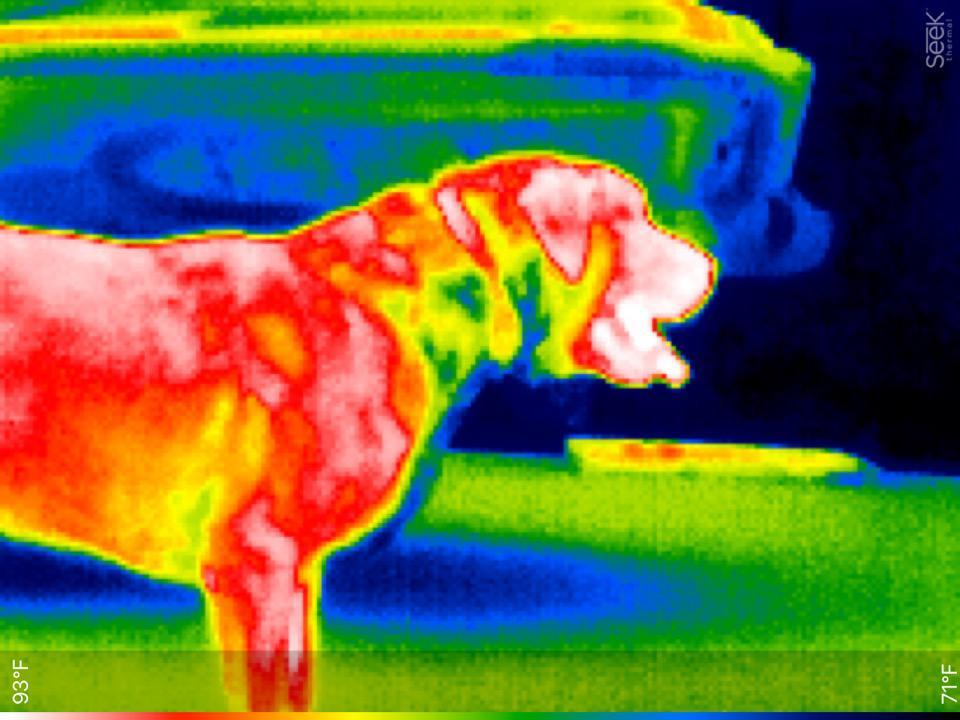dog: (1, 141, 723, 710)
